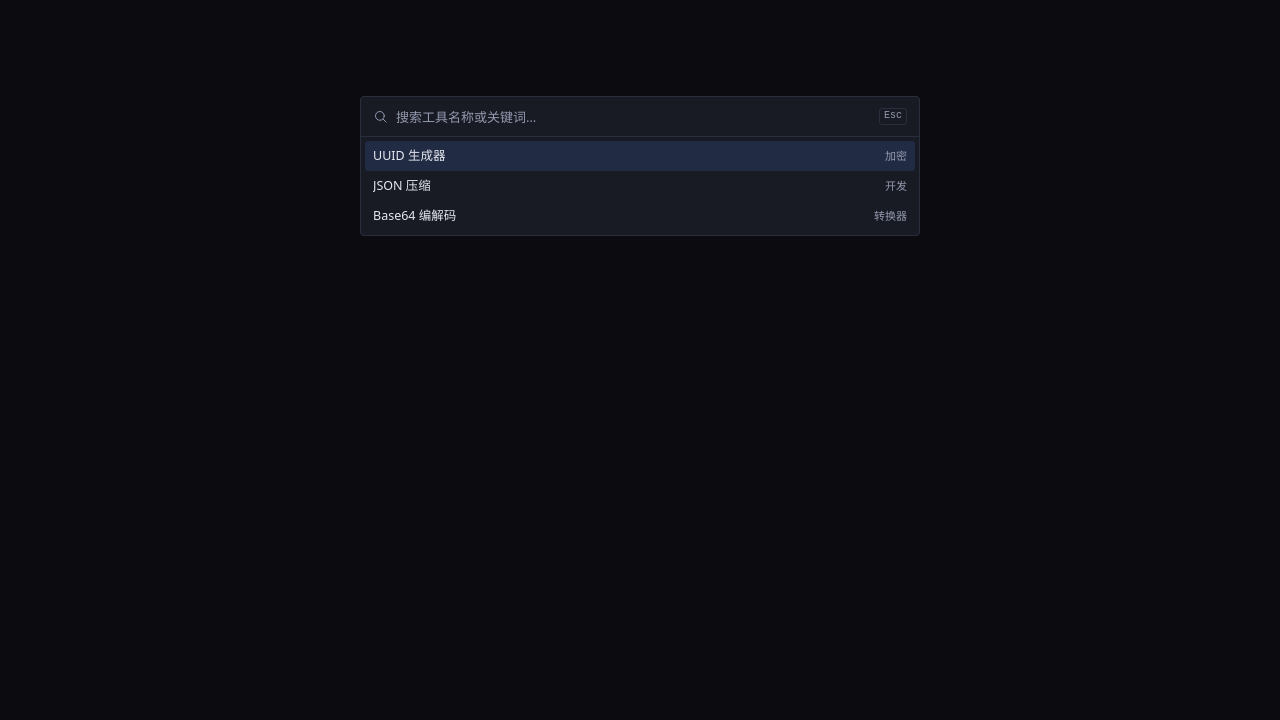
Scenario: CommandPalette › 按名称搜索
Type "uuid" into the field at (634, 116), box [396, 97, 871, 136]
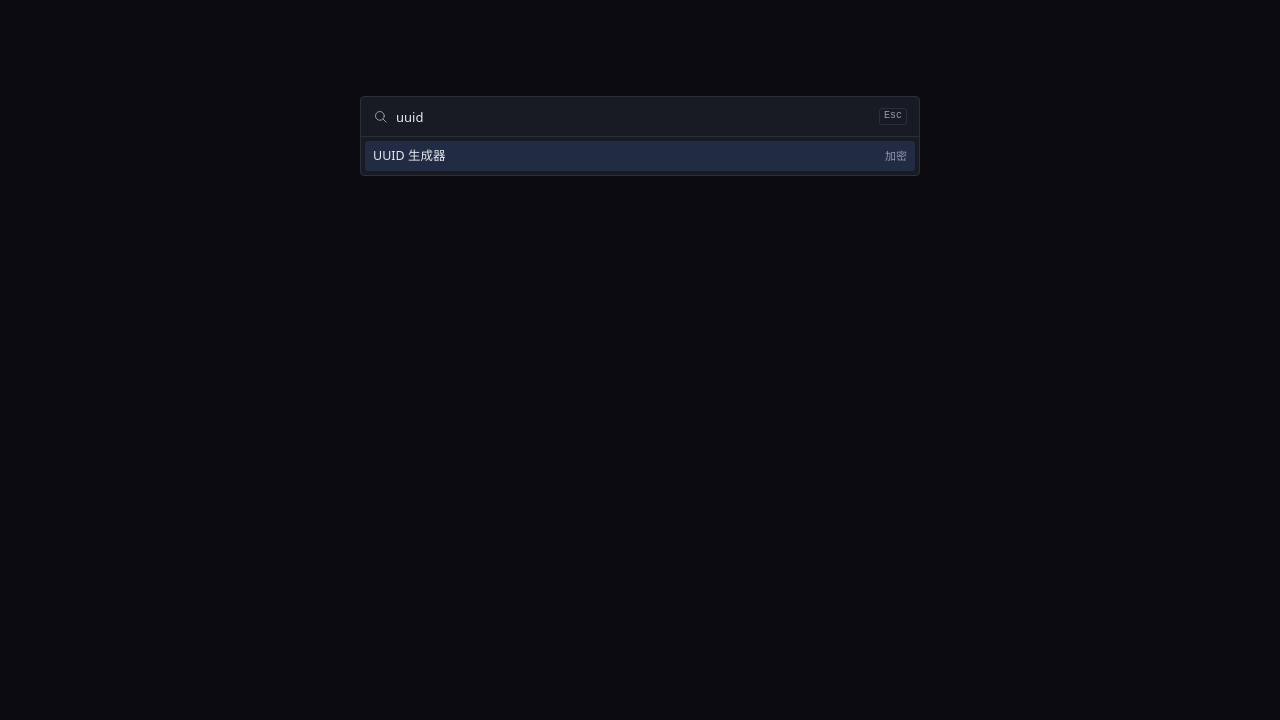
Expected: the text "UUID 生成器" is shown, [373, 147, 445, 164]
Expected: the option "JSON 压缩" is gone
